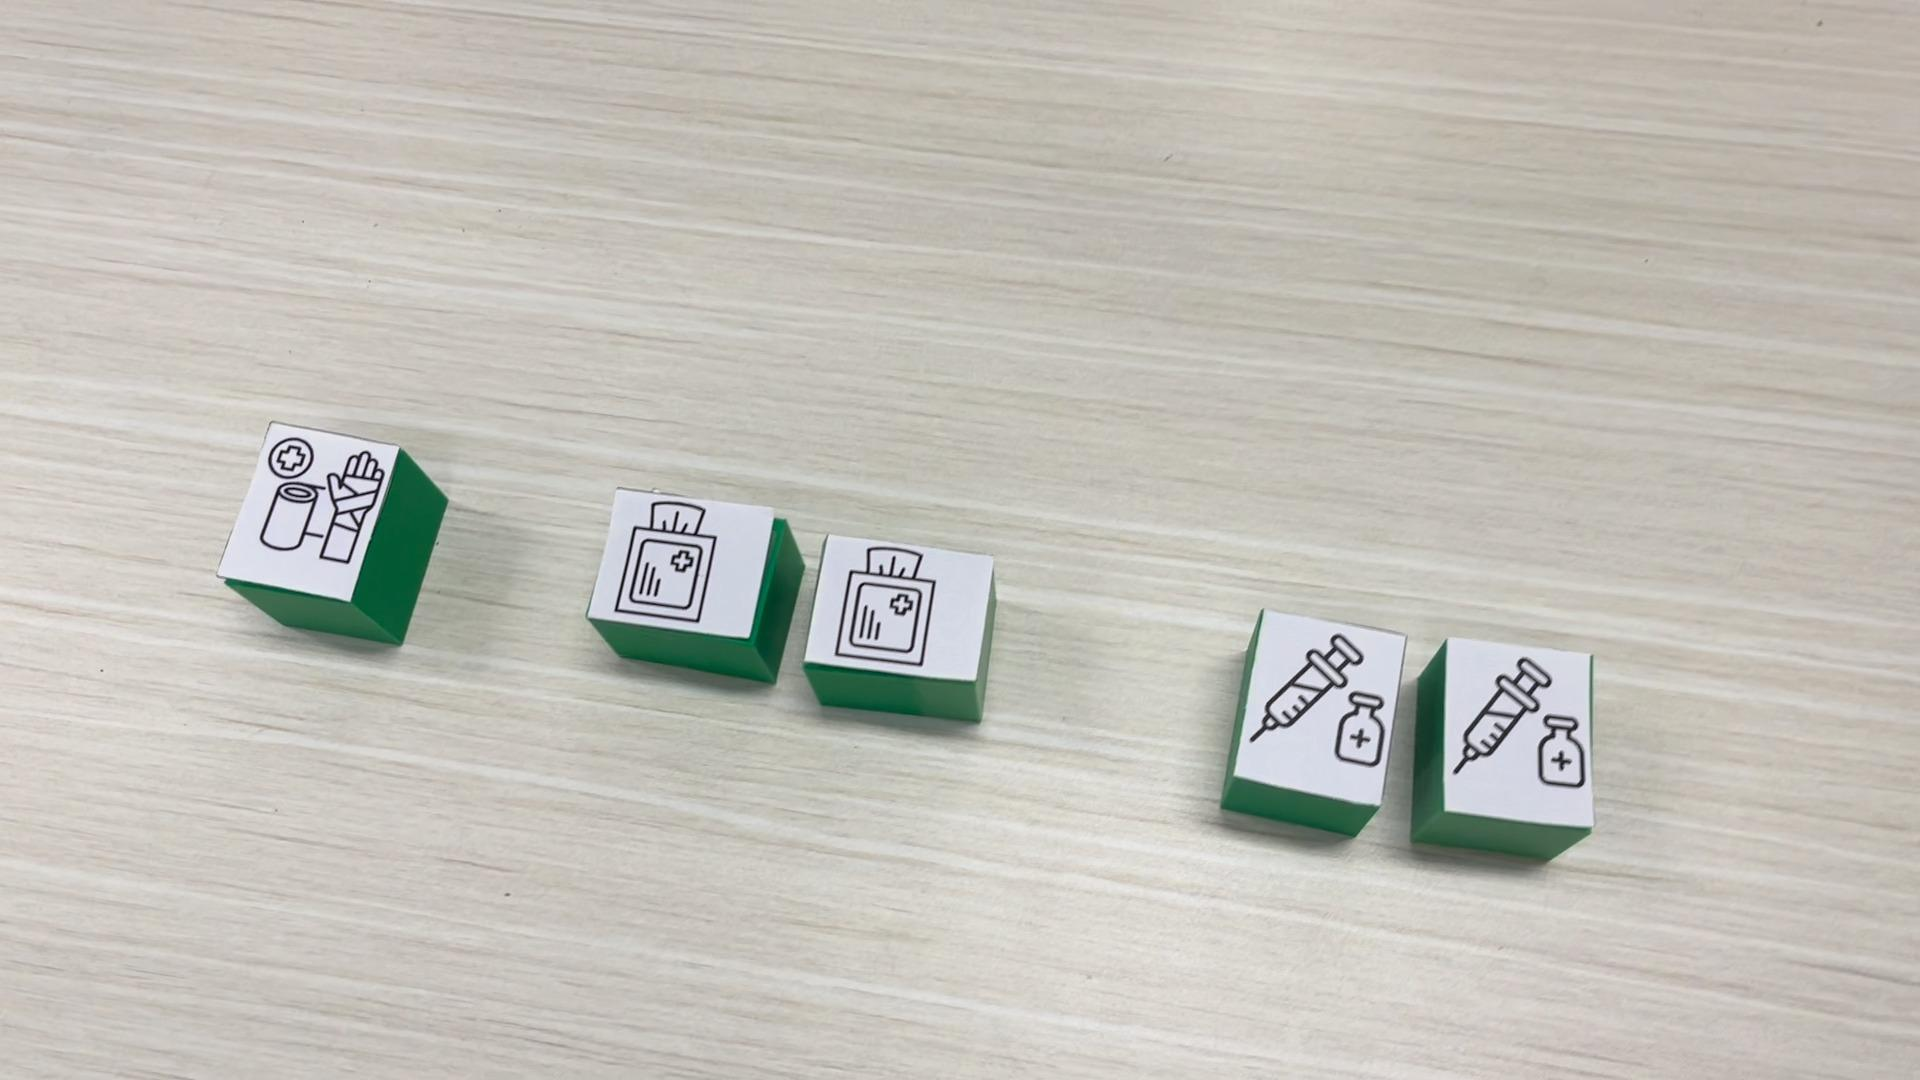Bandages: (219, 421, 448, 645)
Gauze: (583, 484, 803, 686), (804, 521, 998, 723)
antiseptic cream: (1218, 608, 1419, 839), (1407, 622, 1598, 858)
